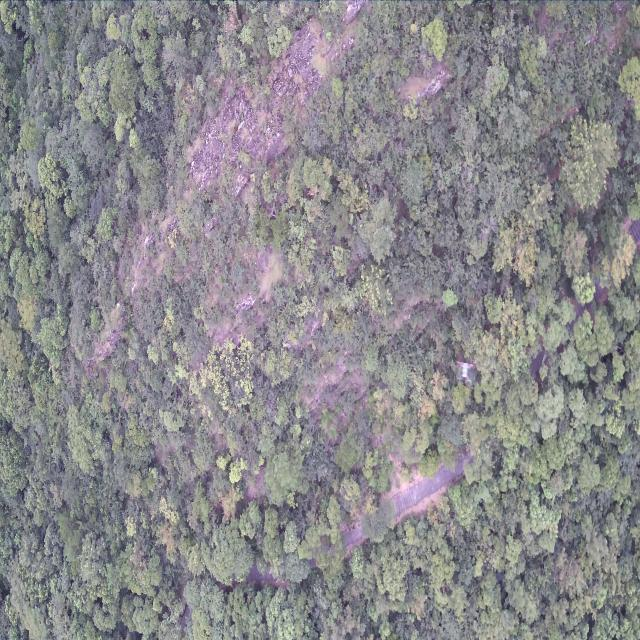UAV: (455, 360, 475, 387)
